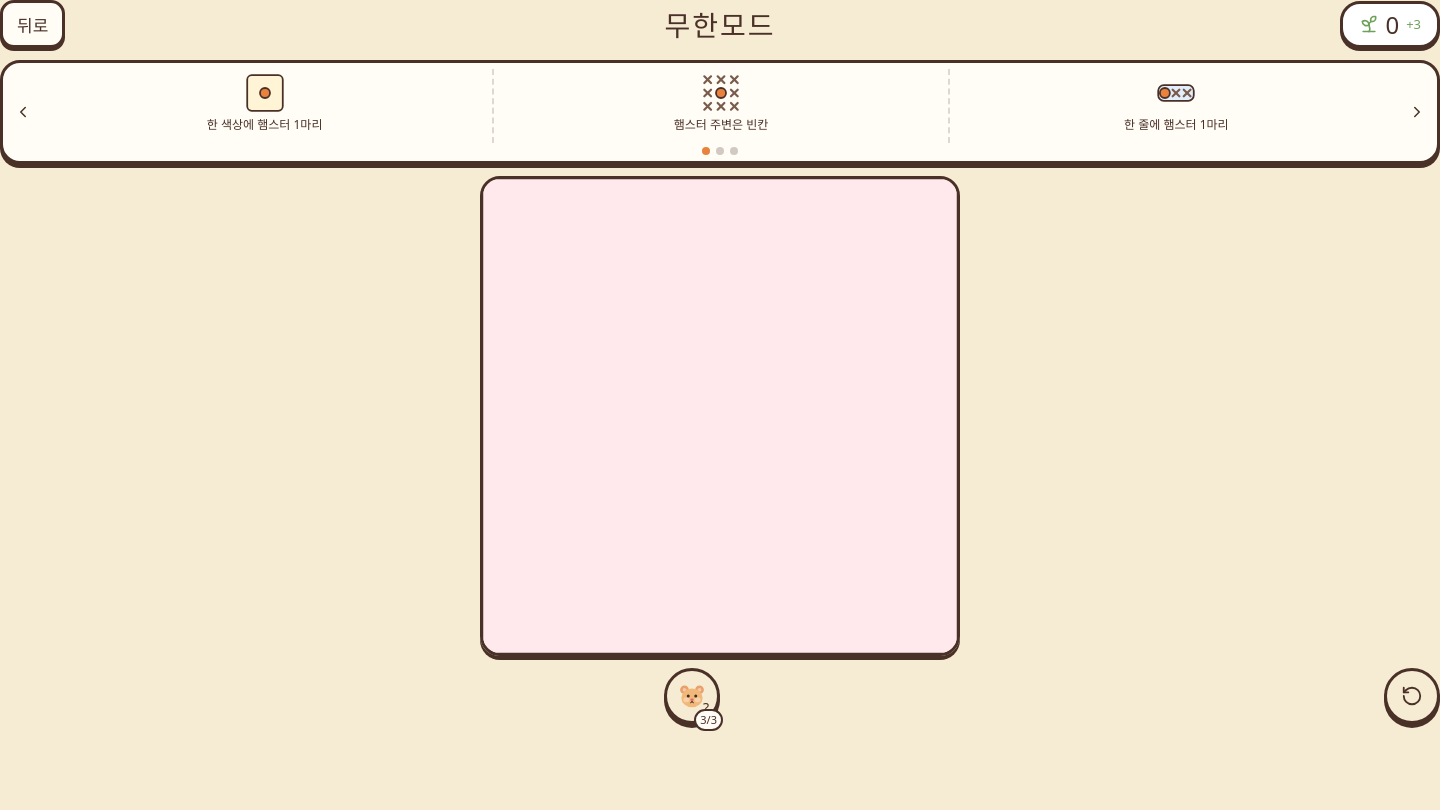
클리어 후 다음 판 로드가 실패하면 오류와 다시 시도할 액션을 유지한다
Double-click the button named "빈칸" at (720, 416), box [483,179,957,653]
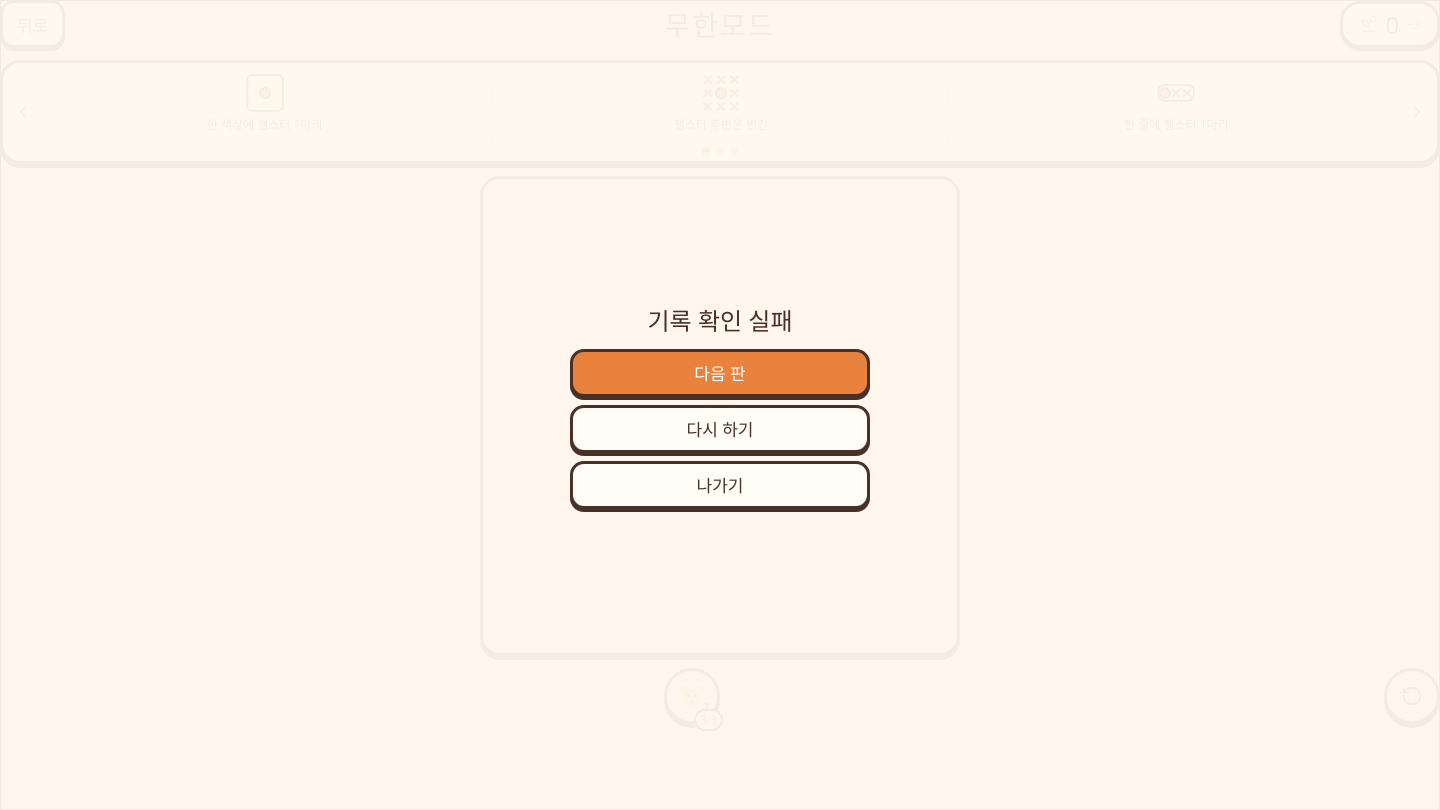
Check: the button "다음 판" is enabled
Click the button "다음 판" at (720, 372), box [570,348,870,396]
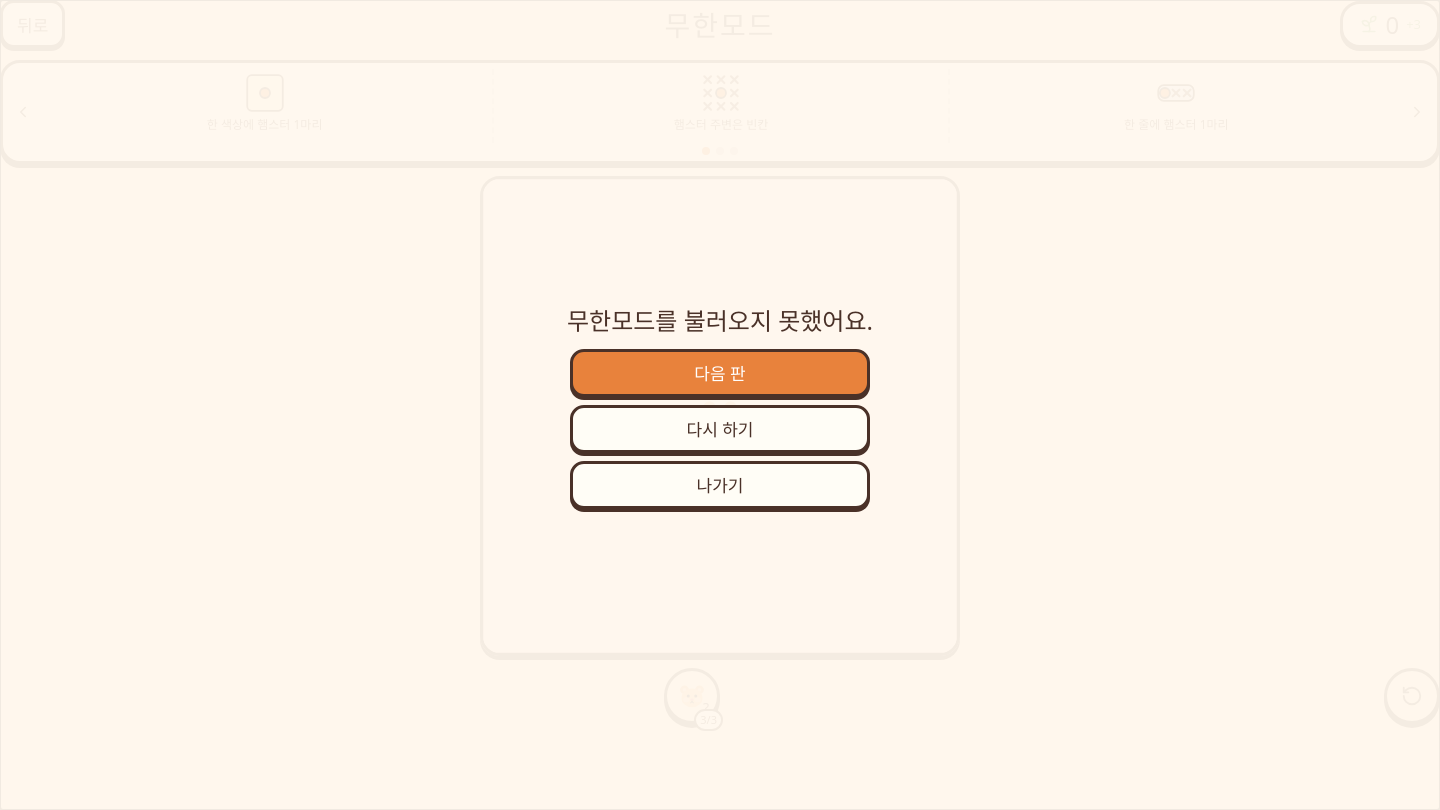
Check: the button "다음 판" is enabled, box [570,348,870,396]
Check: the button "나가기" is shown, box [570,460,870,508]
Check: the text "무한모드를 불러오지 못했어요." is shown, box [567,302,873,336]
